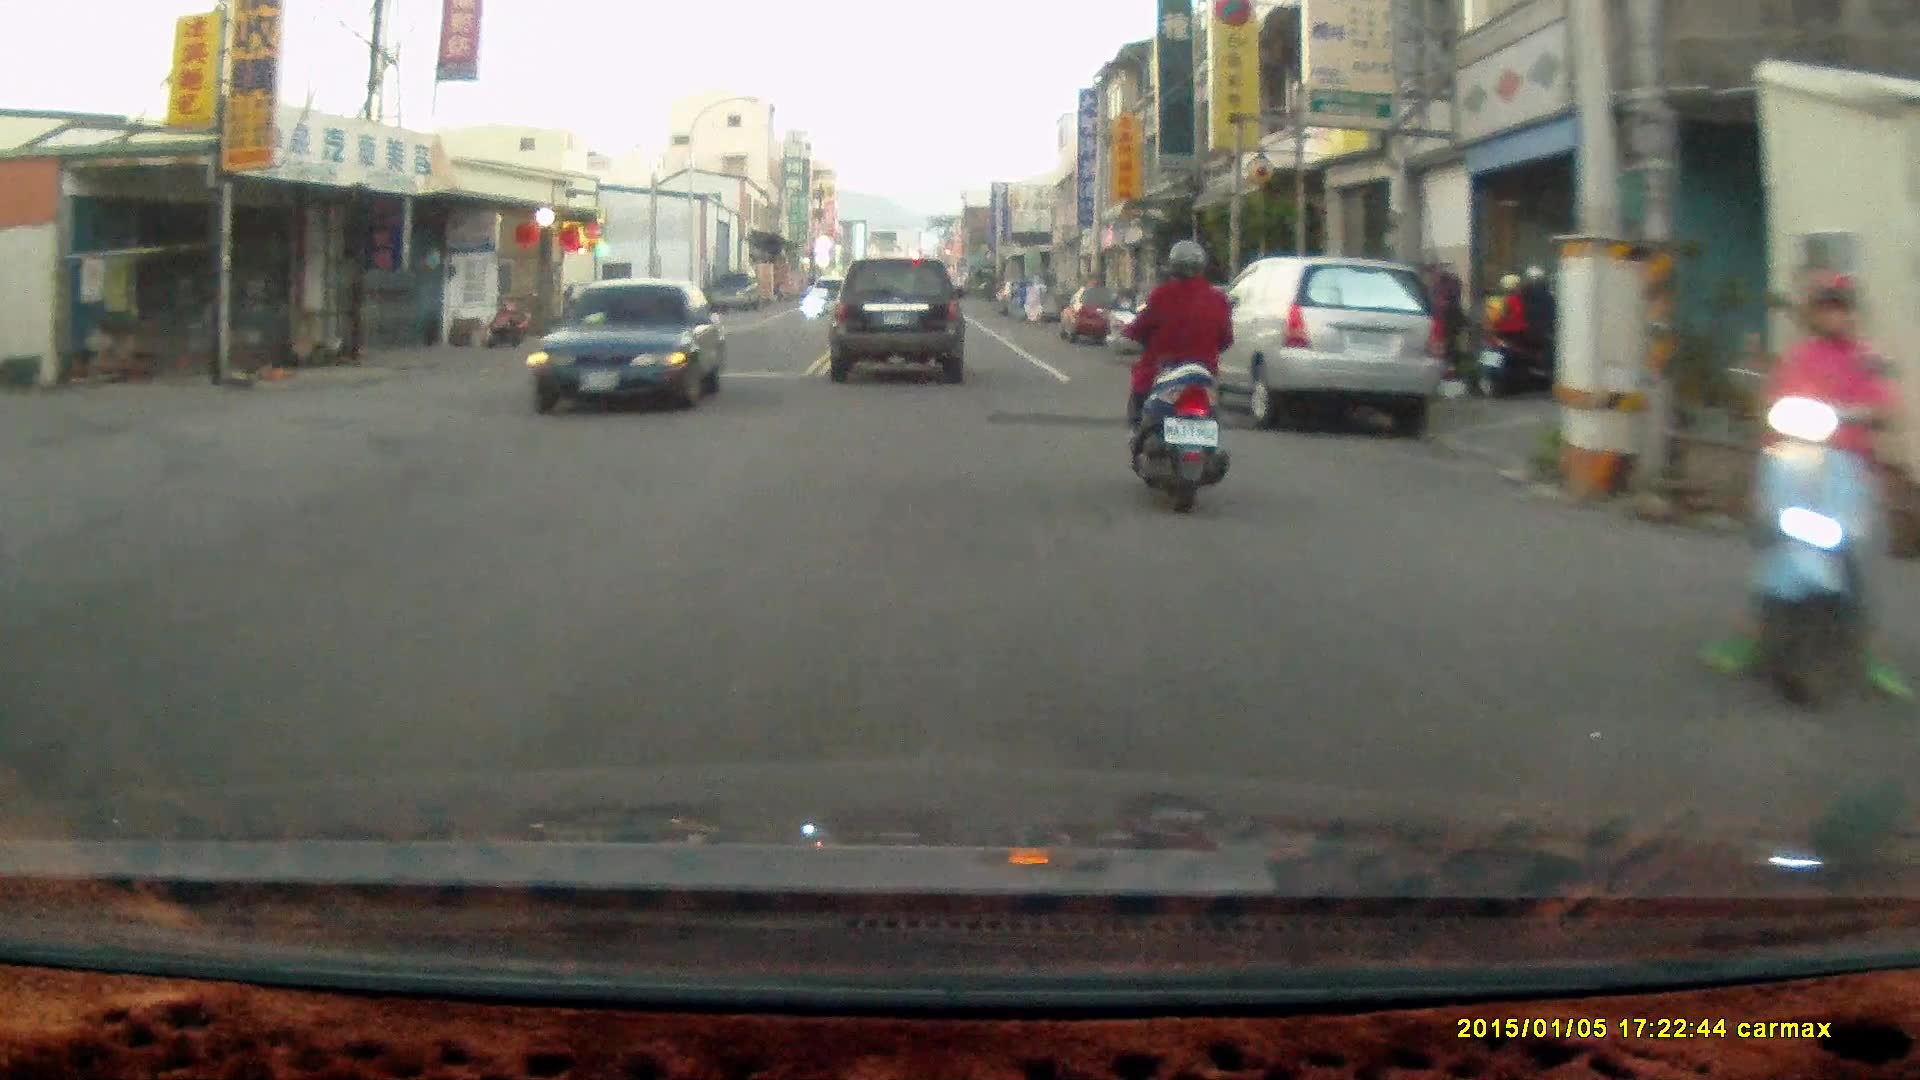rider: (1702, 270, 1903, 711), (1118, 237, 1231, 514), (1481, 260, 1557, 397)
vehicle: (1189, 261, 1440, 439), (531, 279, 728, 418), (827, 258, 968, 389), (1059, 287, 1137, 346)
